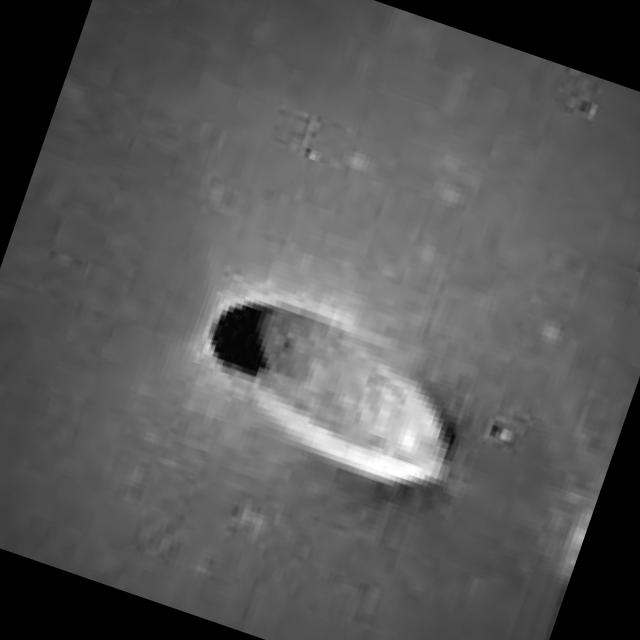crater: (186, 282, 479, 494)
